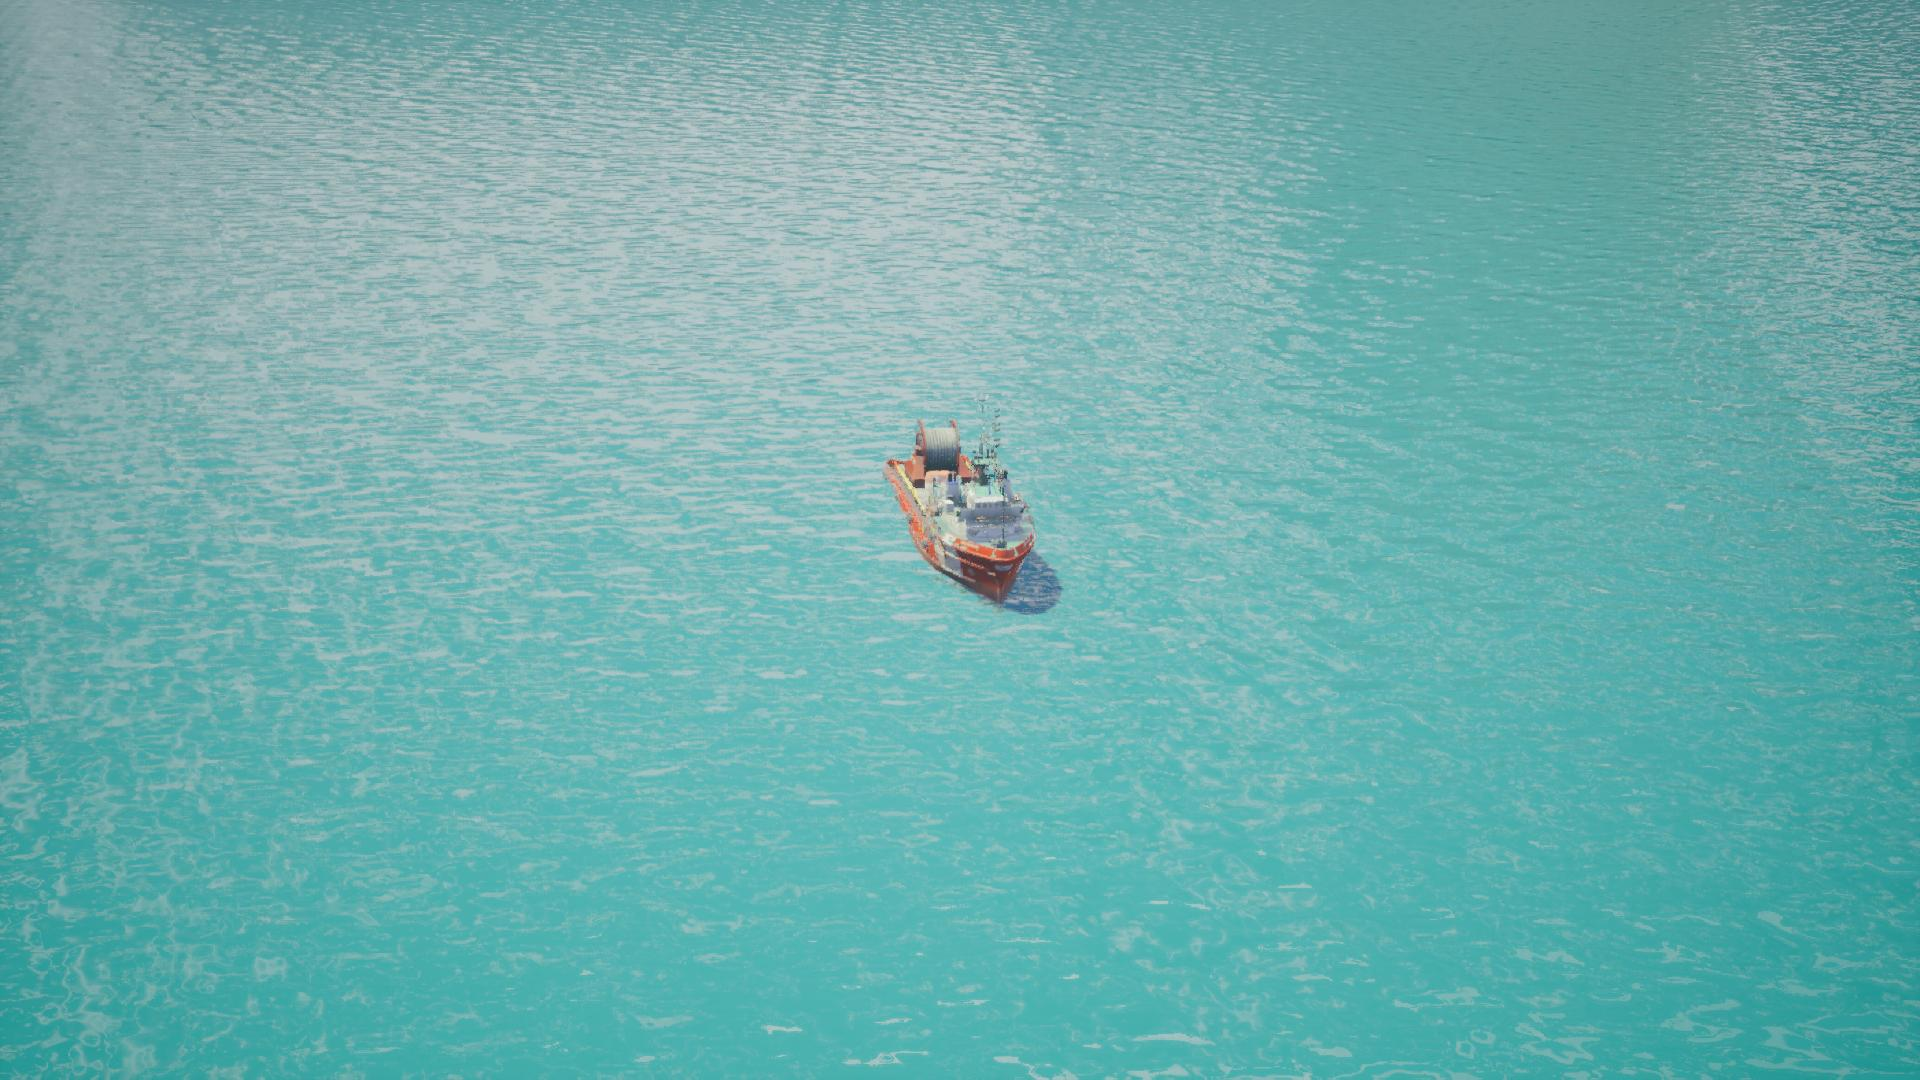Tug Boat: (888, 422, 1044, 611)
